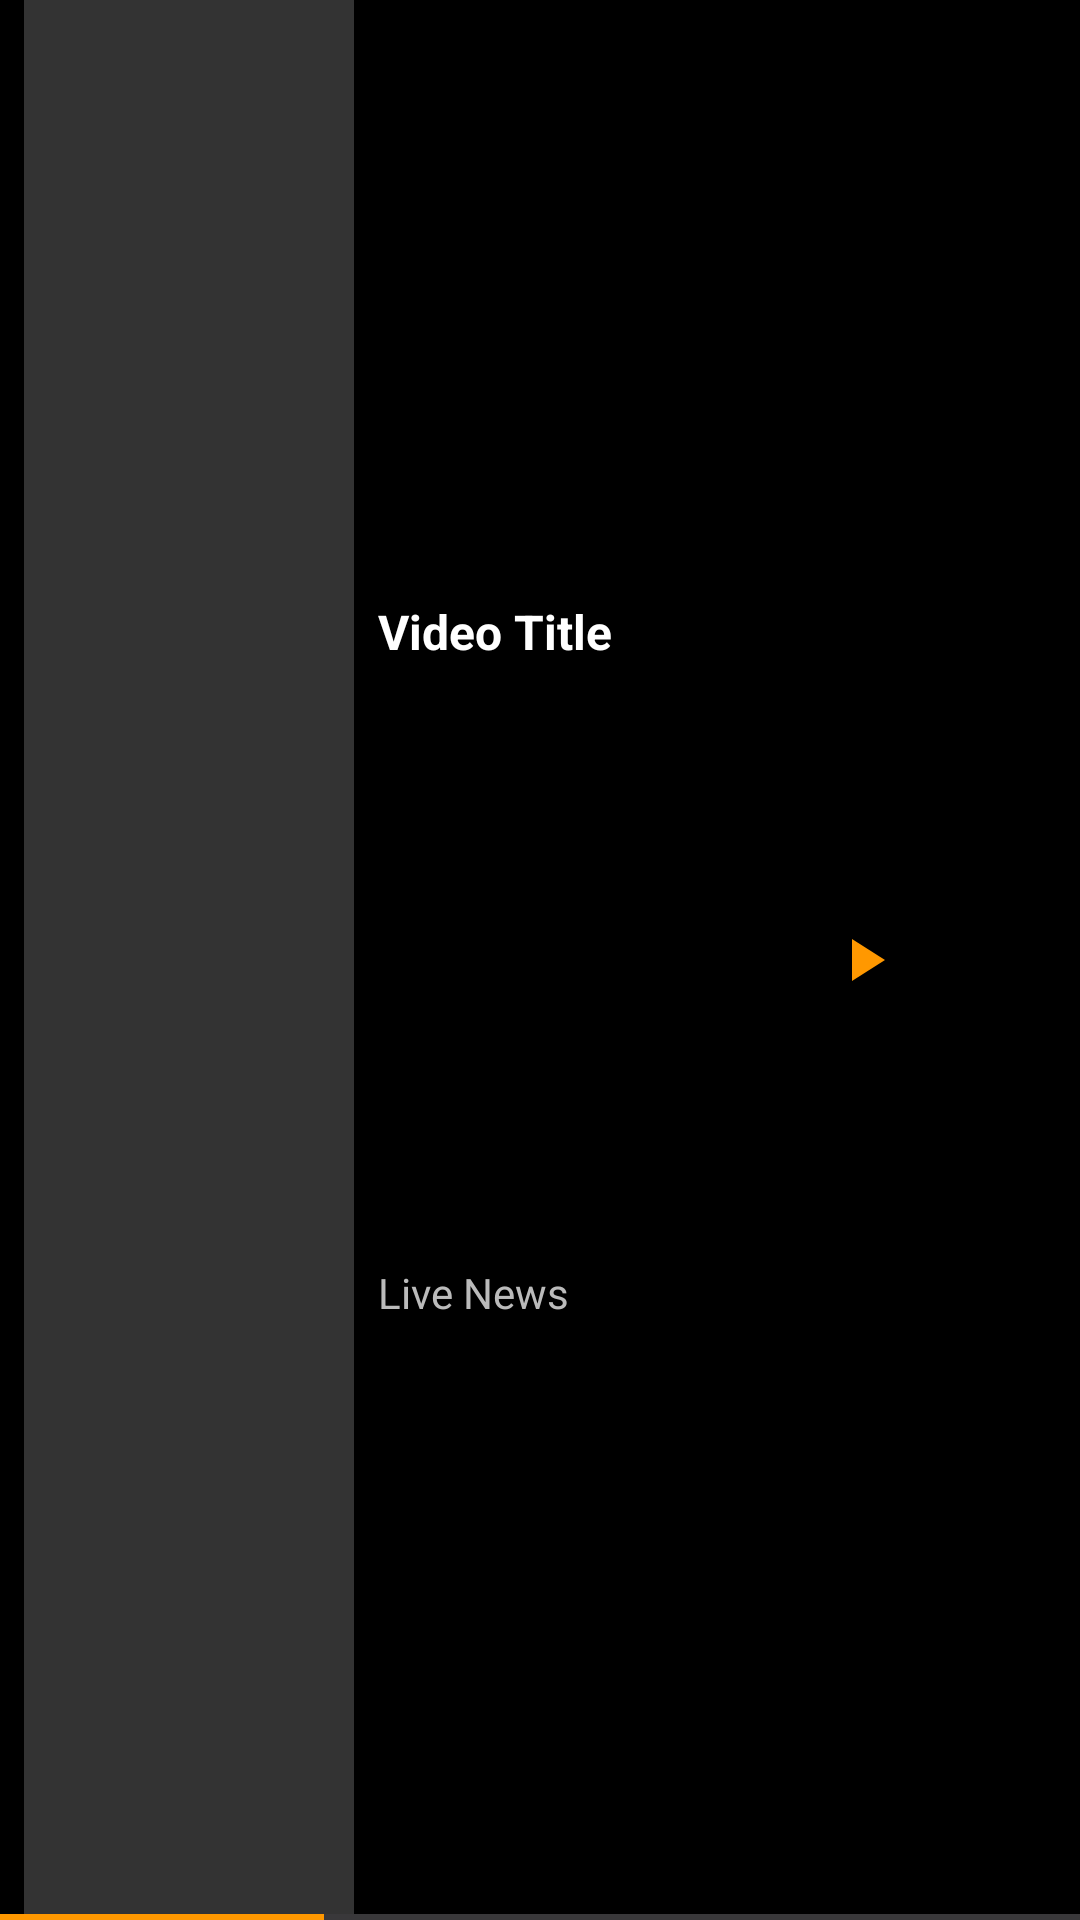

Where icons sit on this 1080px x 1920px app screen, as [x1=x1, y1=y1, x2=x2, y2=y2]:
Play/Pause: [x1=852, y1=939, x2=885, y2=981]
